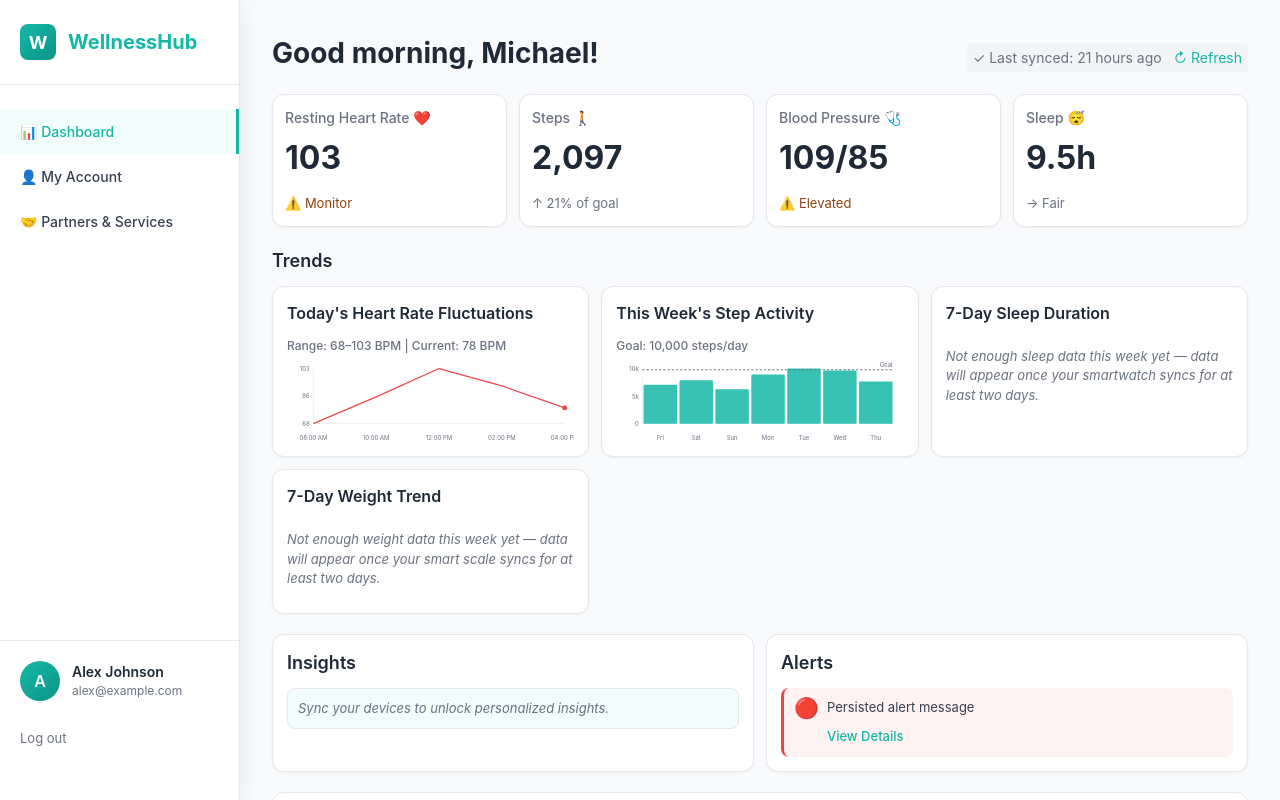
Test: after re-fetch failure, Alerts section content remains visible
The image size is (1280, 800).
Expected: the heading "Good morning, Michael!" is shown, x1=272 y1=32 x2=599 y2=74
Expected: the text "Persisted alert message" is shown, x1=827 y1=698 x2=974 y2=717
Click the button with aria-label "Refresh dashboard".
click(1208, 58)  # box x1=1174 y1=49 x2=1242 y2=66
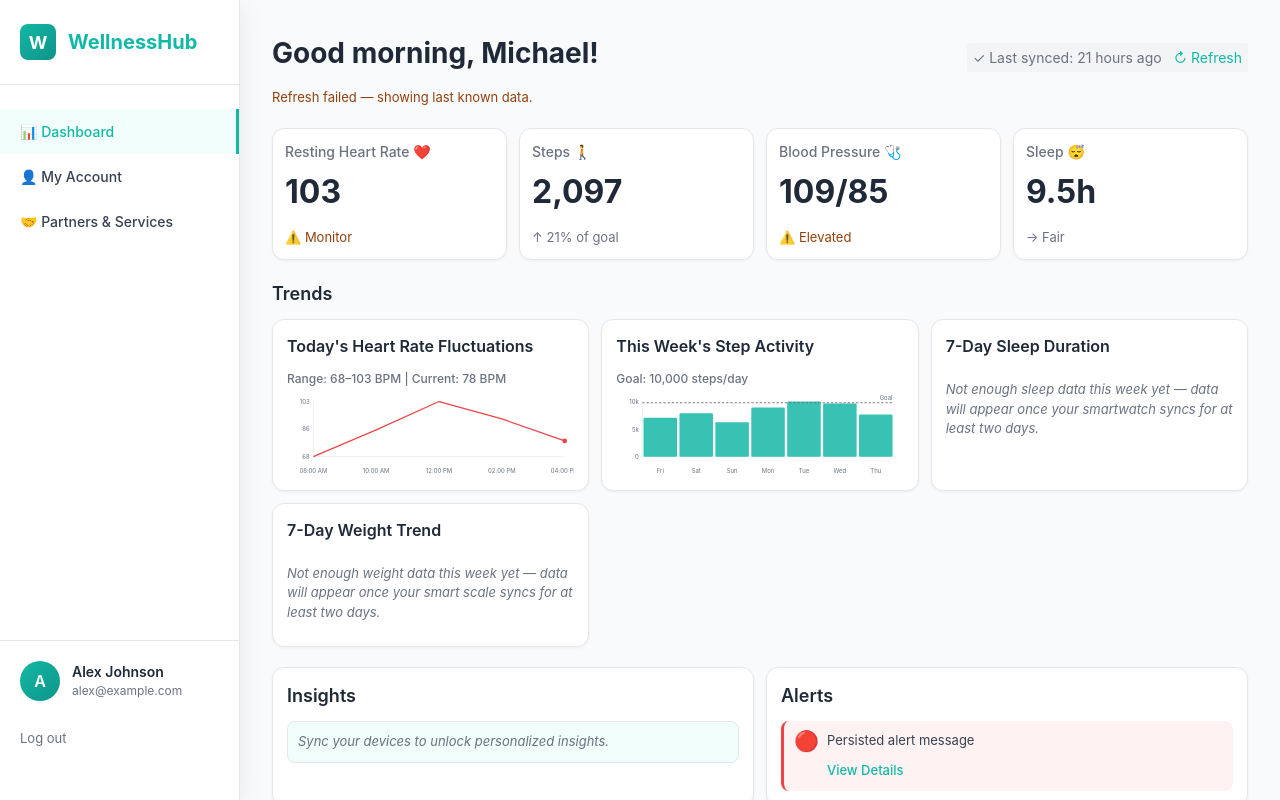
Expected: the text "Persisted alert message" is shown, x1=827 y1=731 x2=974 y2=751
Expected: the text "Refresh failed — showing last known data." is shown, x1=272 y1=89 x2=532 y2=105
